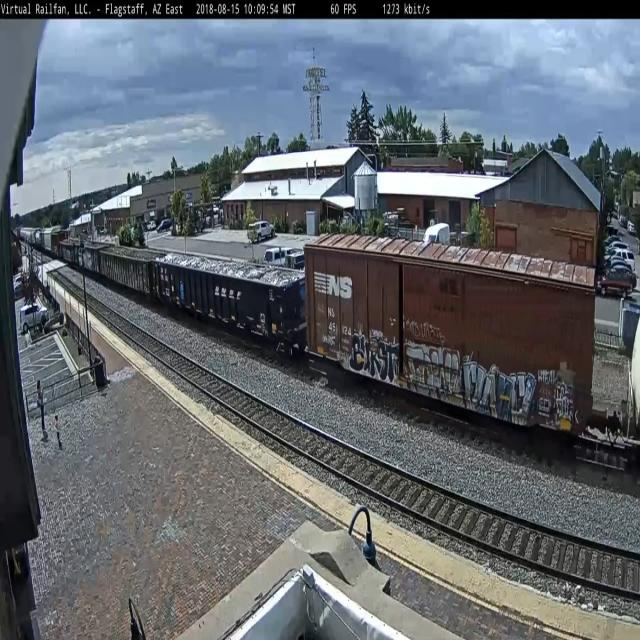boxcar: (298, 221, 604, 468)
gondola: (151, 248, 305, 361)
